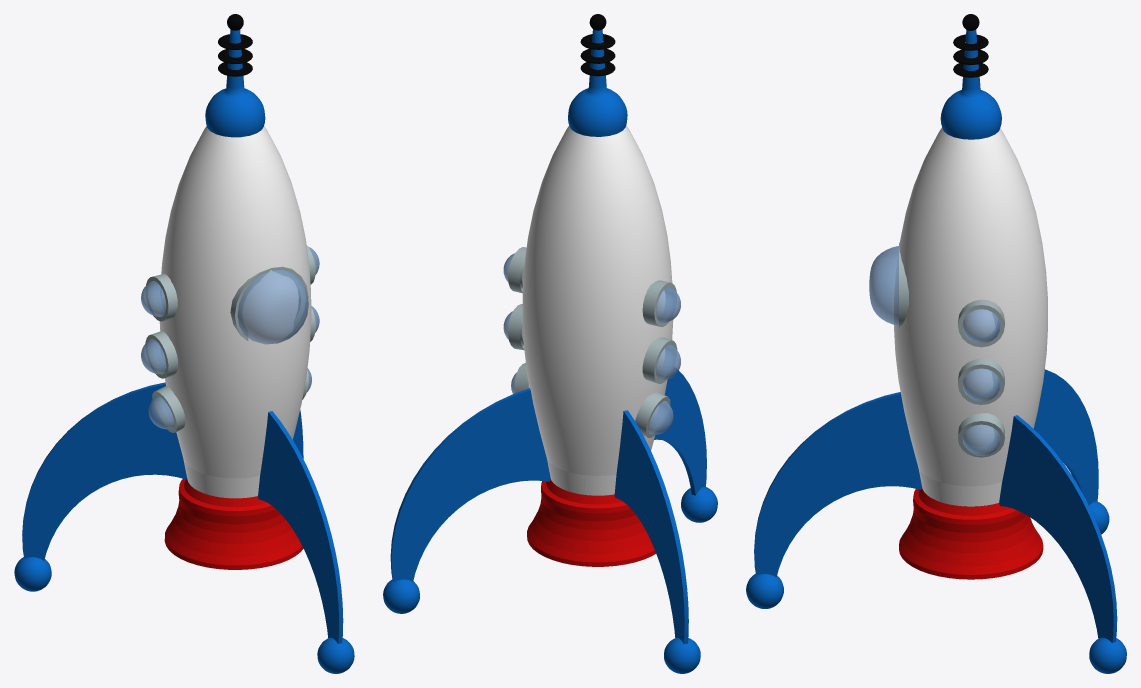
Rendered from rocket.glb.
3 views of the same model, side by side, from view 1: azimuth 30°, elevation 25°; view 2: azimuth 150°, elevation 25°; view 3: azimuth 270°, elevation 25° (orthographic). The views are drawn at different scales.
Parts seen in each view (by area): view 1: Object_2, Object_5, Object_3, Object_6, Object_4, Object_7; view 2: Object_2, Object_5, Object_3, Object_4, Object_6, Object_7; view 3: Object_2, Object_5, Object_3, Object_6, Object_4, Object_7.
Boxes of the visible parts, bbox=[...] form: Object_2: bbox=[159, 126, 311, 498]; Object_5: bbox=[14, 29, 354, 673]; Object_3: bbox=[164, 478, 303, 569]; Object_6: bbox=[141, 247, 319, 429]; Object_4: bbox=[145, 245, 315, 432]; Object_7: bbox=[218, 14, 252, 76]; Object_2: bbox=[522, 125, 673, 495]; Object_5: bbox=[383, 29, 717, 673]; Object_3: bbox=[527, 479, 655, 566]; Object_4: bbox=[508, 247, 677, 437]; Object_6: bbox=[503, 253, 680, 434]; Object_7: bbox=[580, 14, 615, 76]; Object_2: bbox=[894, 127, 1047, 506]; Object_5: bbox=[746, 29, 1126, 673]; Object_3: bbox=[899, 487, 1043, 579]; Object_6: bbox=[869, 246, 1000, 455]; Object_4: bbox=[899, 243, 1004, 457]; Object_7: bbox=[953, 14, 988, 77].
Size of the model in its own units: 0.9513 by 1.73 by 1.01.
